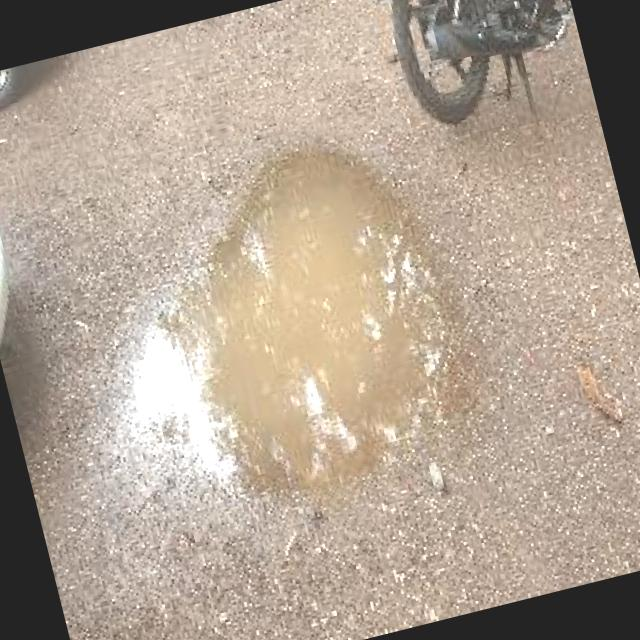stagnation: (141, 121, 508, 512)
